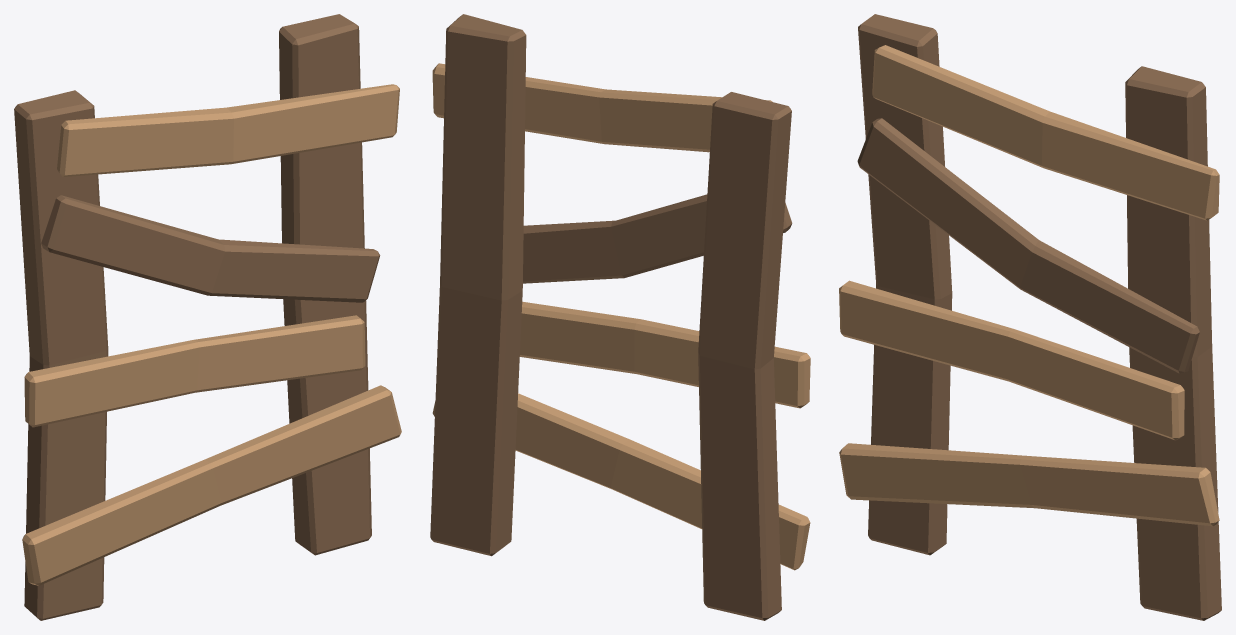
Rendered from wooden fence1.fbx.
3 views of the same model, side by side, from view 1: azimuth 30°, elevation 25°; view 2: azimuth 150°, elevation 25°; view 3: azimuth 330°, elevation 25° (orthographic).
Parts seen in each view (by area): view 1: wooden-fence.001; view 2: wooden-fence.001; view 3: wooden-fence.001.
Boxes of the visible parts, box(x1,y1,x2,y2) form: wooden-fence.001: box(14, 14, 401, 620); wooden-fence.001: box(430, 14, 810, 620); wooden-fence.001: box(839, 14, 1221, 620).
Size of the model in its own units: 1.94 by 2.59 by 0.2654.
